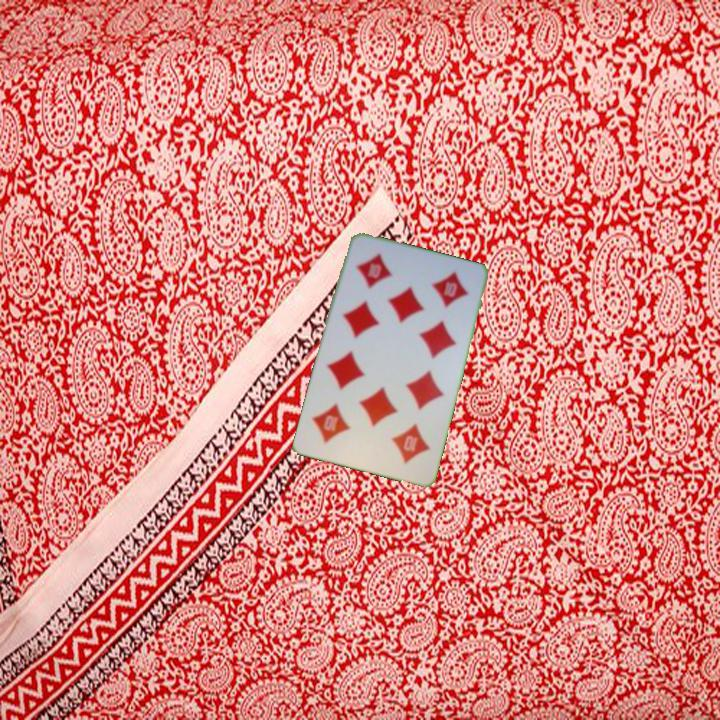d_10.png: (342, 241, 420, 313), (362, 405, 440, 477)
